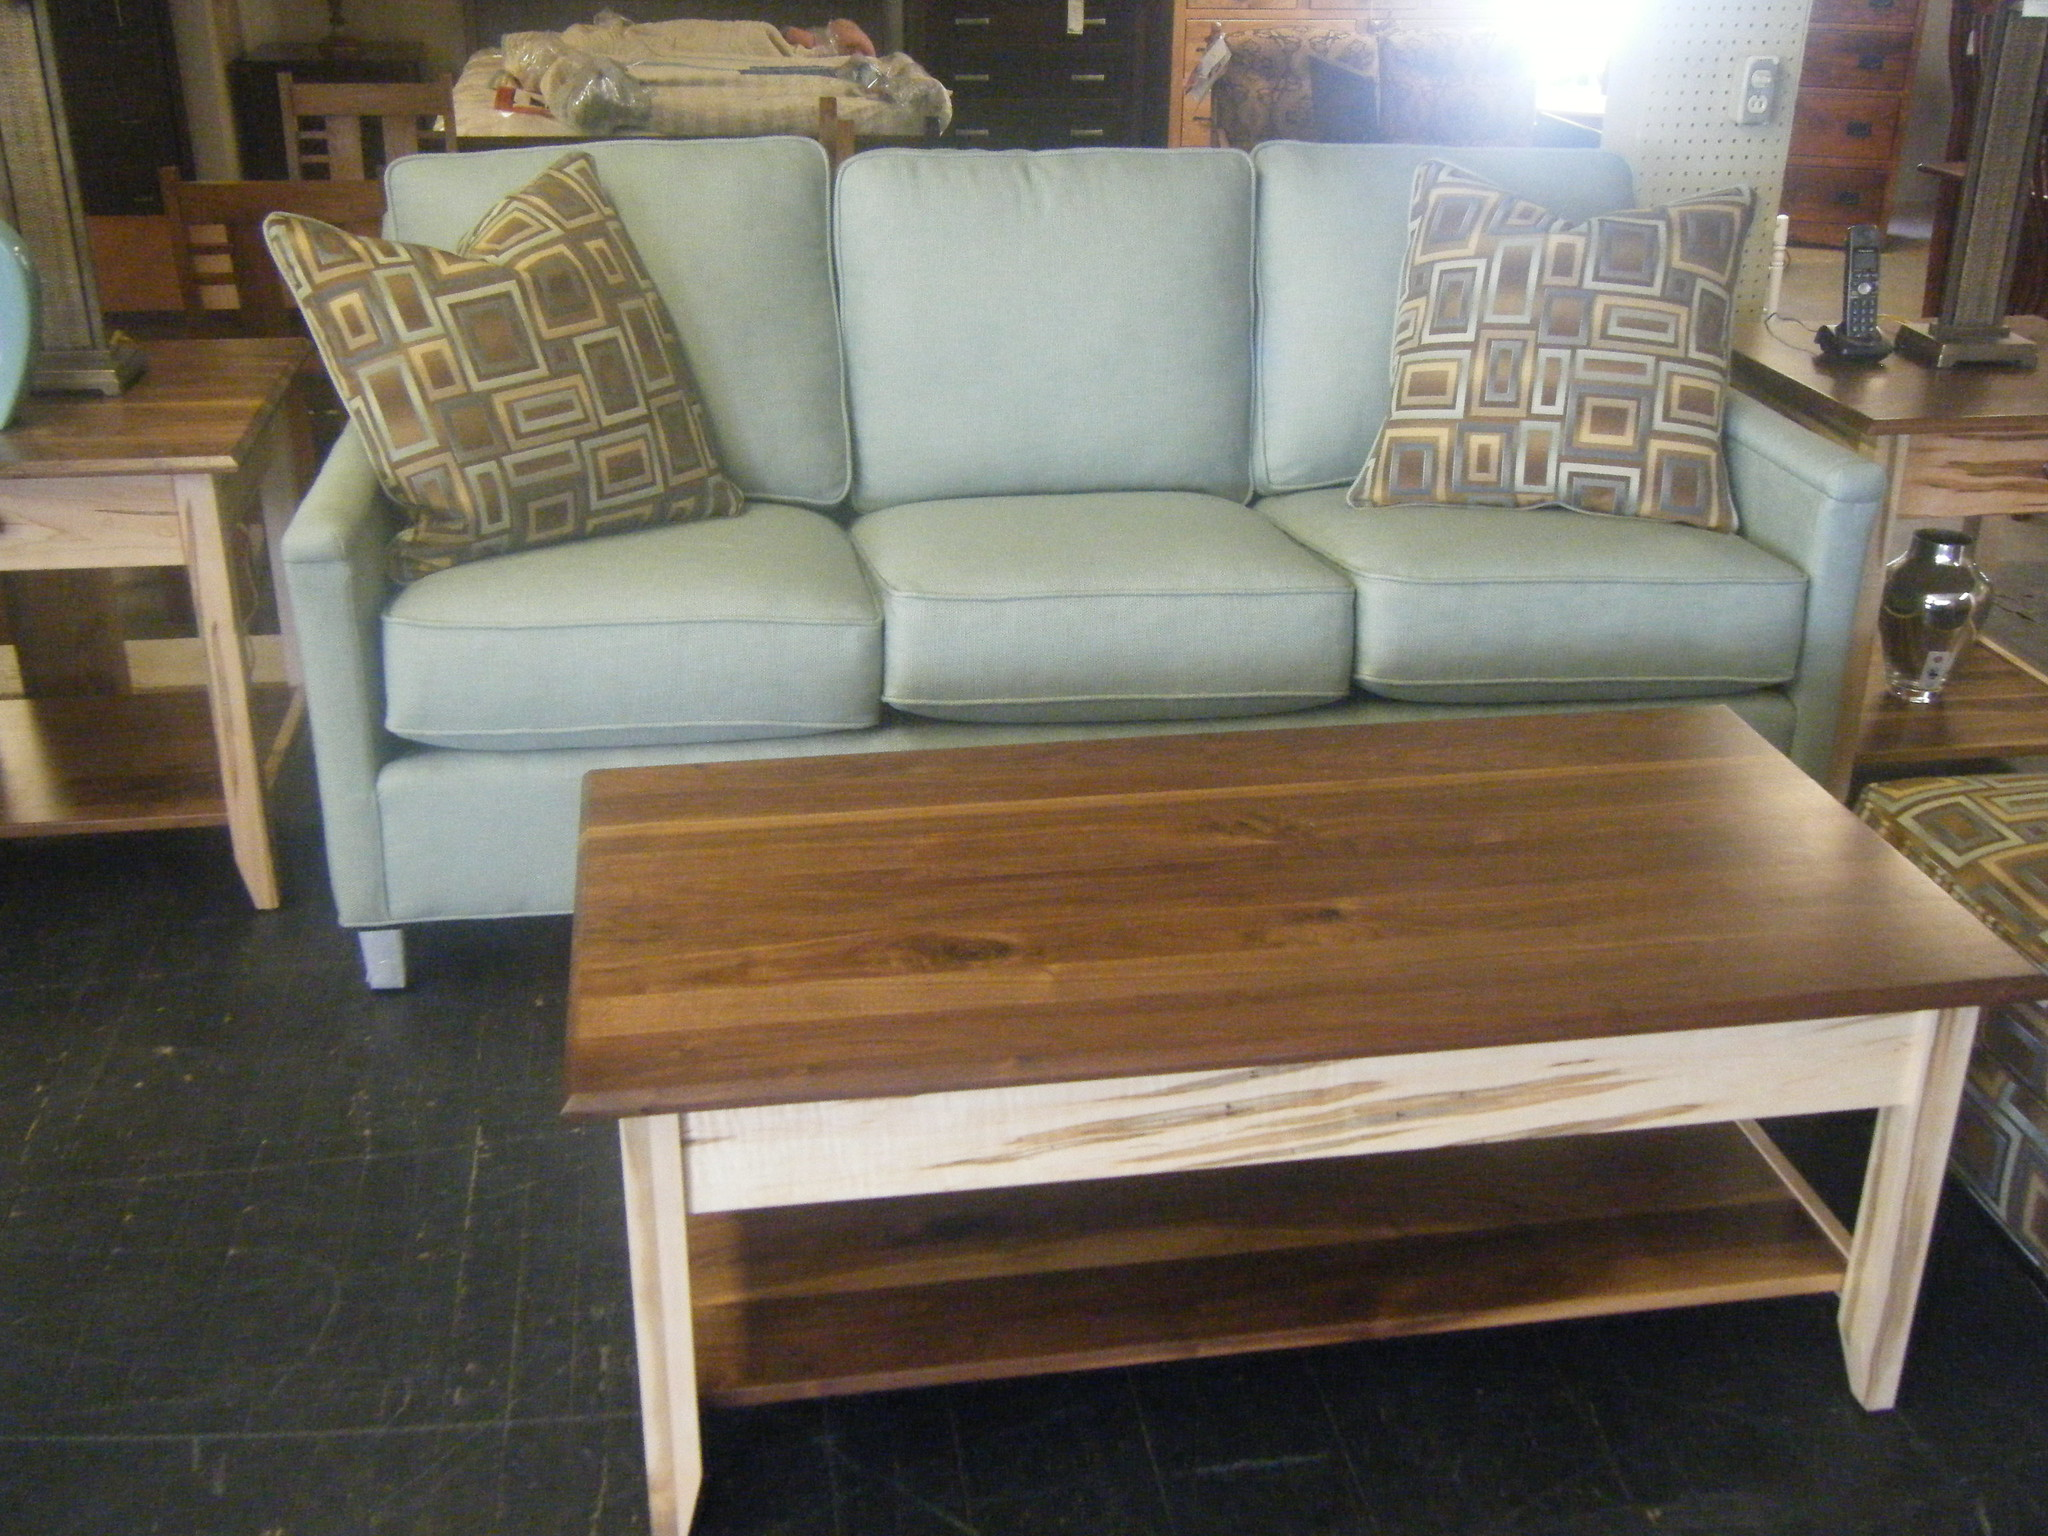sofa: (281, 145, 1922, 933)
